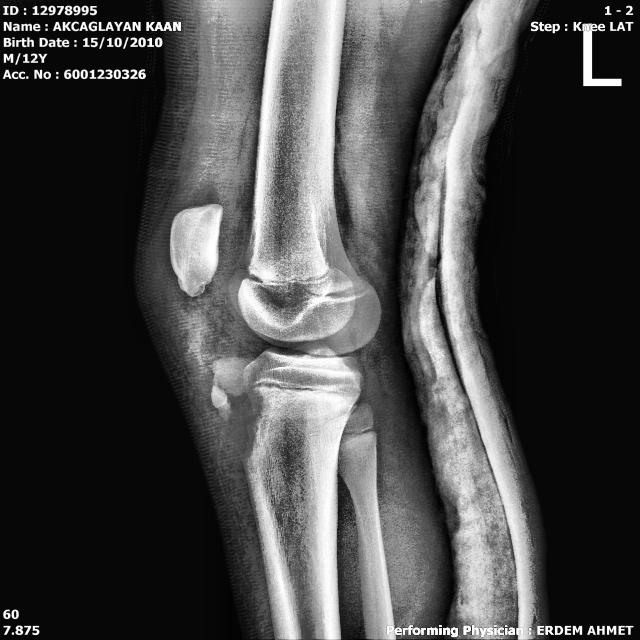Fracture: (208, 386, 270, 476)
